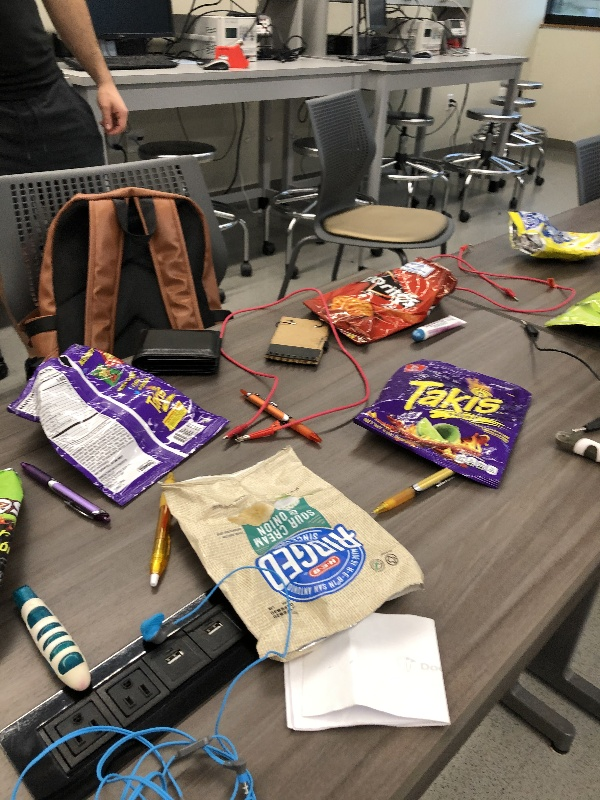bag: (153, 443, 435, 669), (9, 341, 234, 512), (351, 359, 534, 494), (301, 254, 461, 350), (500, 205, 600, 269), (544, 288, 600, 336), (1, 461, 24, 574)
